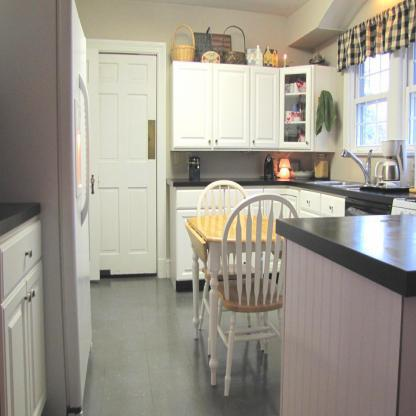door: (96, 51, 161, 277)
